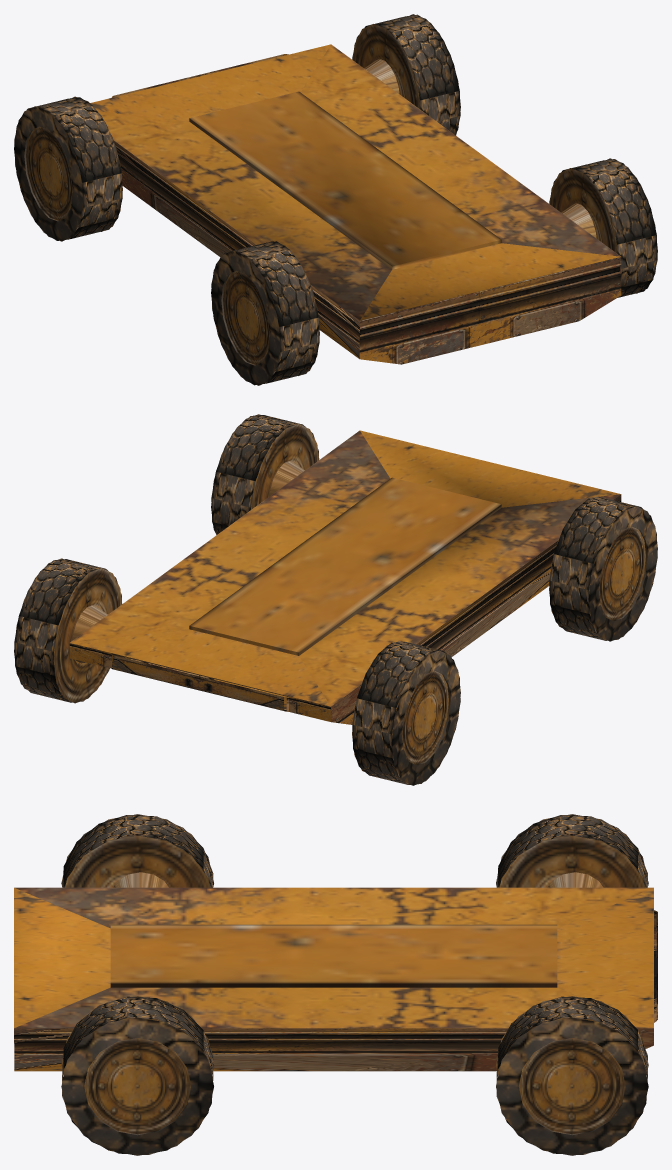
3 views of the same model, one above another, from view 1: azimuth 30°, elevation 25°; view 2: azimuth 150°, elevation 25°; view 3: azimuth 270°, elevation 25° (orthographic). The views are drawn at different scales.
Parts seen in each view (by area): view 1: reboque; view 2: reboque; view 3: reboque.
Part boxes in pixels (<box>): reboque: <box>14,14,657,385</box>; reboque: <box>14,414,657,785</box>; reboque: <box>14,814,657,1155</box>.
Size of the model in its own units: 8.84 by 11.83 by 2.81.
